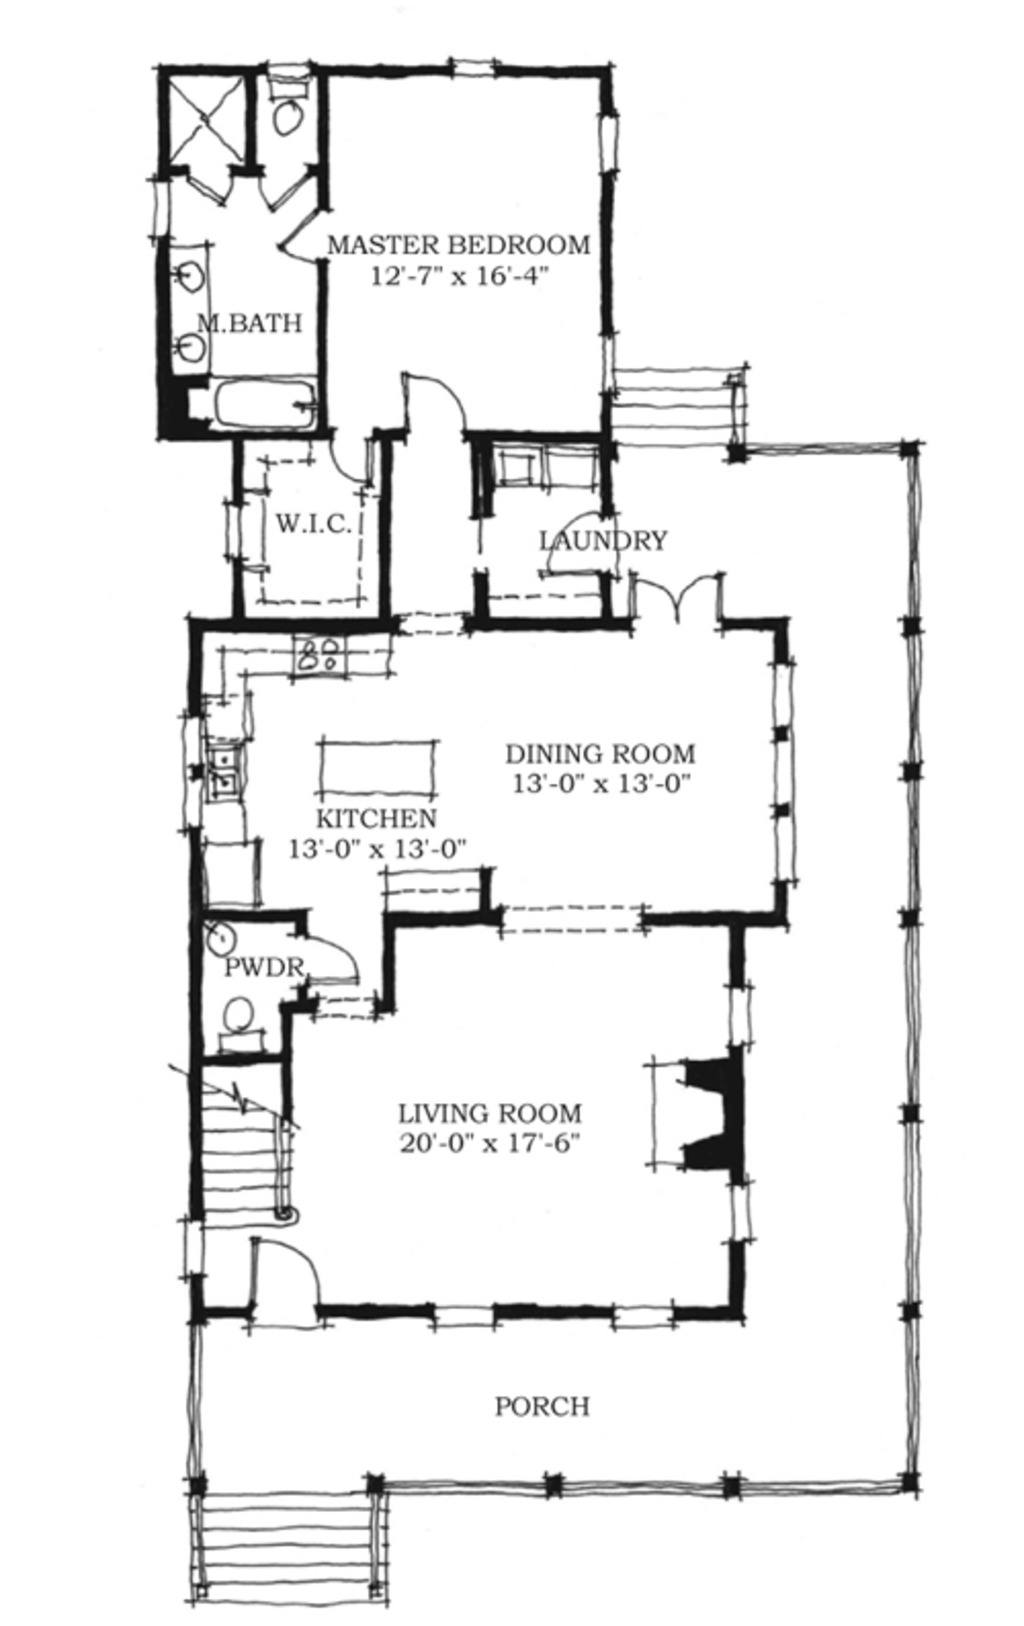door: (245, 1235, 317, 1321), (396, 362, 458, 436)
stairs: (189, 1483, 390, 1609), (188, 1067, 303, 1229)
